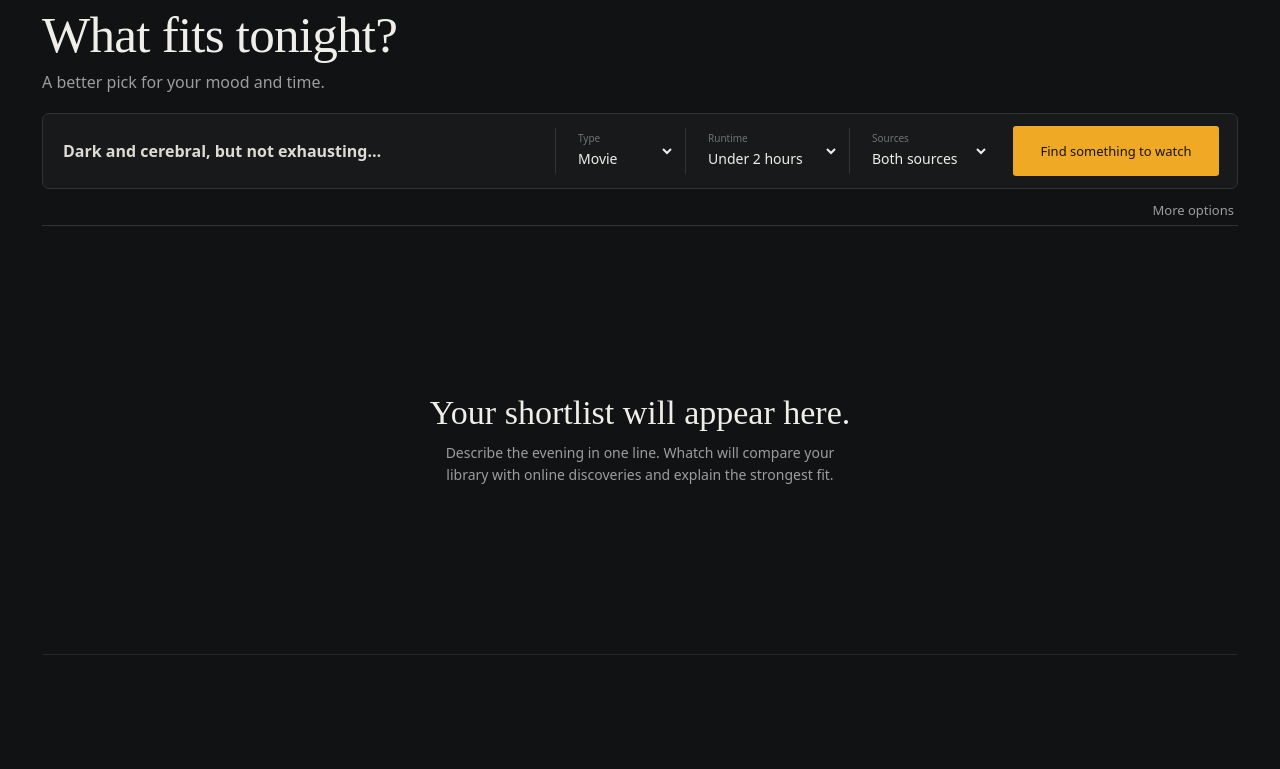
Test: TonightScreen load more › renders every returned result and supports repeated hybrid loads
Click the button "Find something to watch": (1116, 151) [1013,126,1219,176]
(page scrolled)
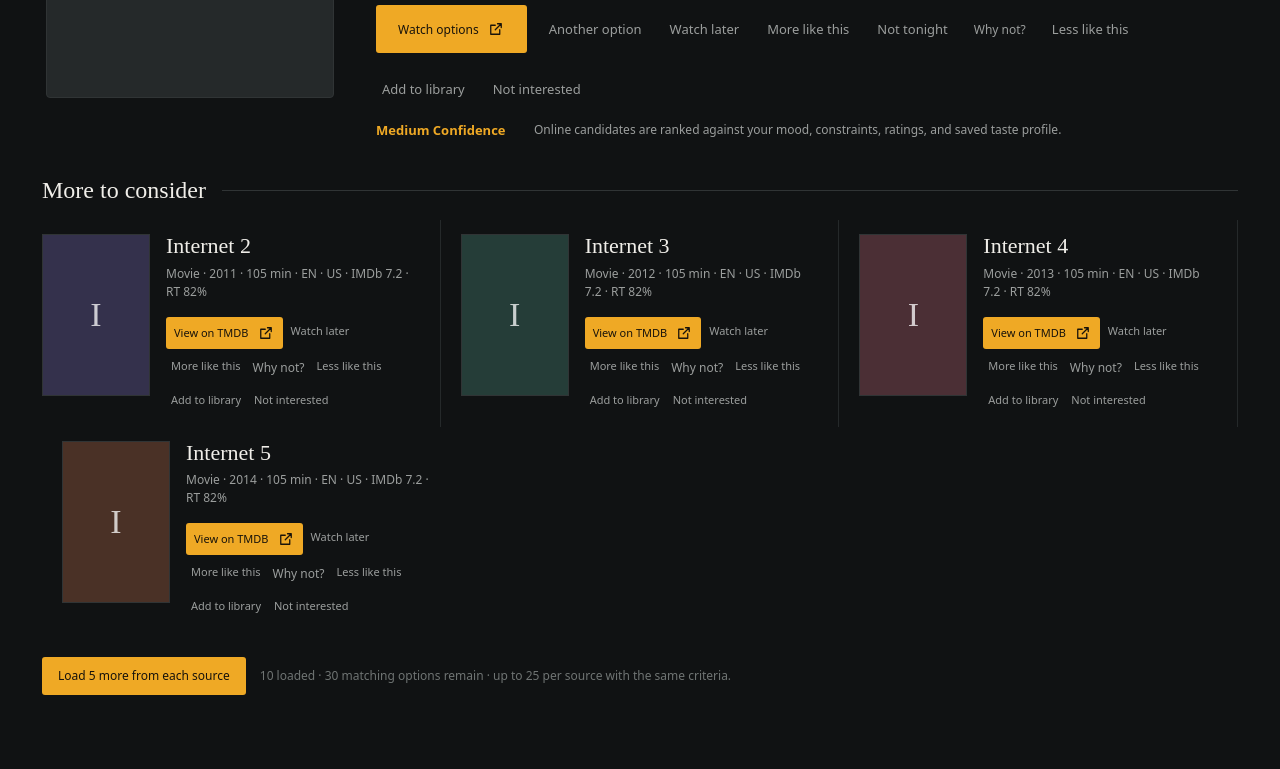
Check: the heading "Internet 5" is shown, box [186,440,271,464]
Click the button "Load 5 more from each source": (144, 676) [42,657,246,695]
(page scrolled)
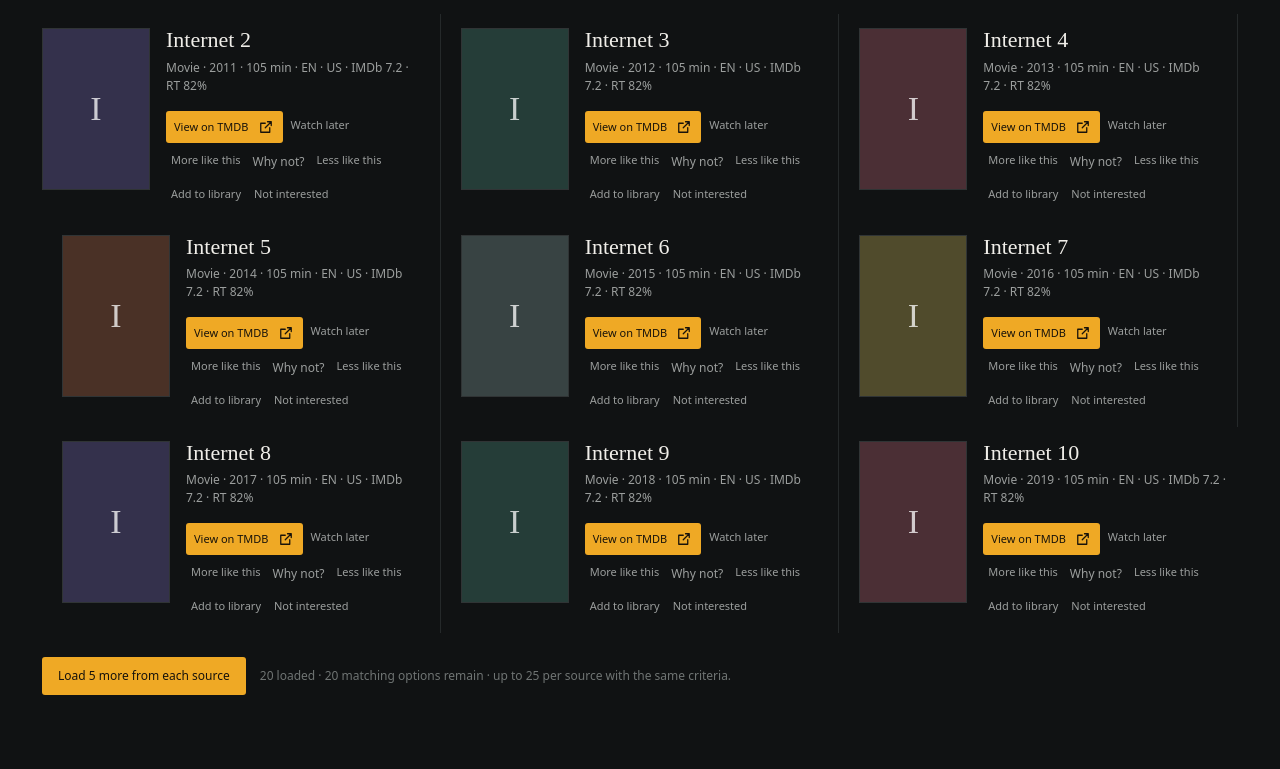
Check: the heading "Internet 10" is shown, box [983,440,1079,465]
Click the button "Load 5 more from each source": (144, 676) [42,657,246,695]
(page scrolled)
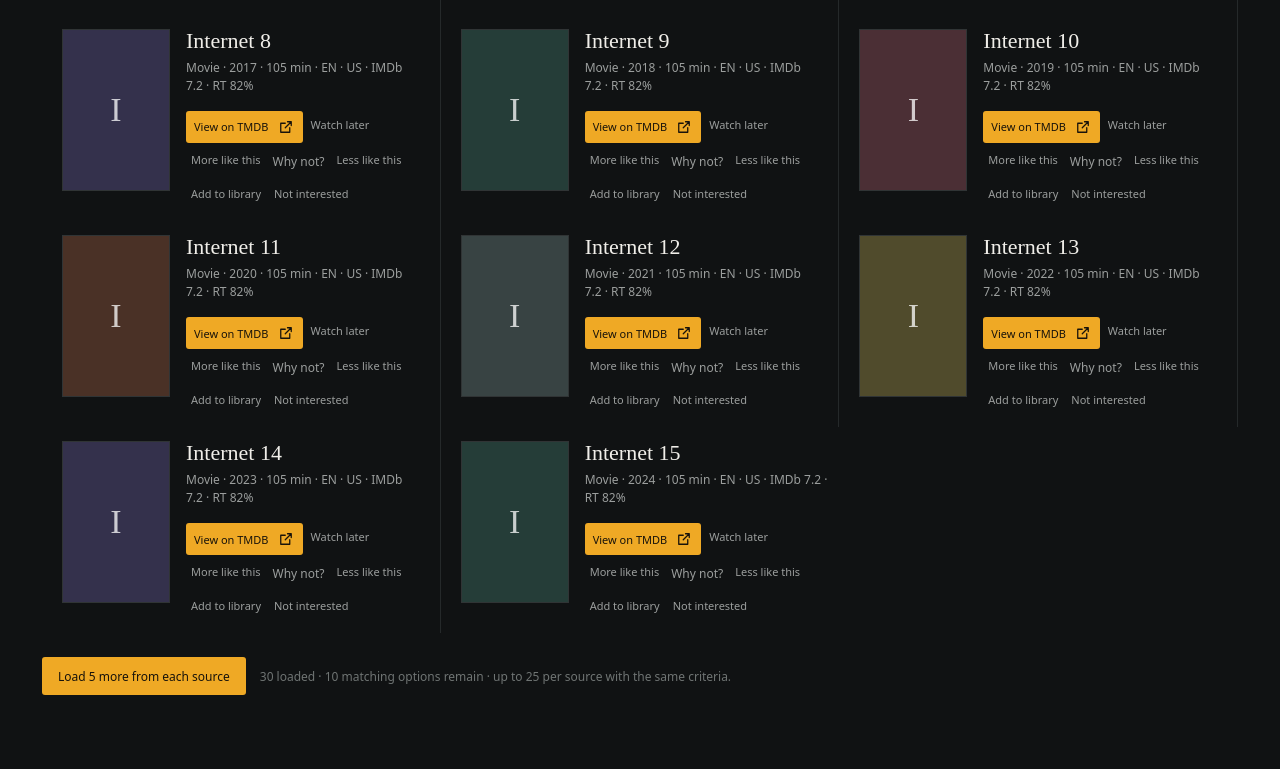
Check: the heading "Internet 15" is shown, box [585,440,681,465]
